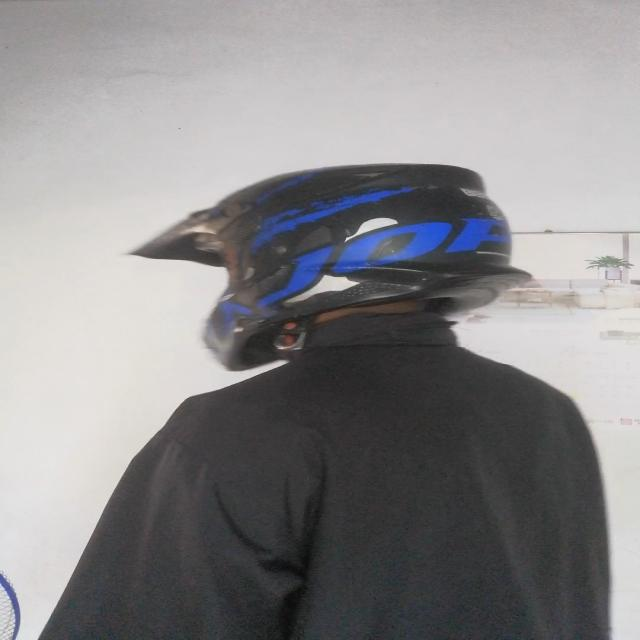Helmet_Wearer: (125, 147, 551, 388)
Jacket_Wearer: (34, 295, 619, 640)
Person: (53, 165, 612, 640)
